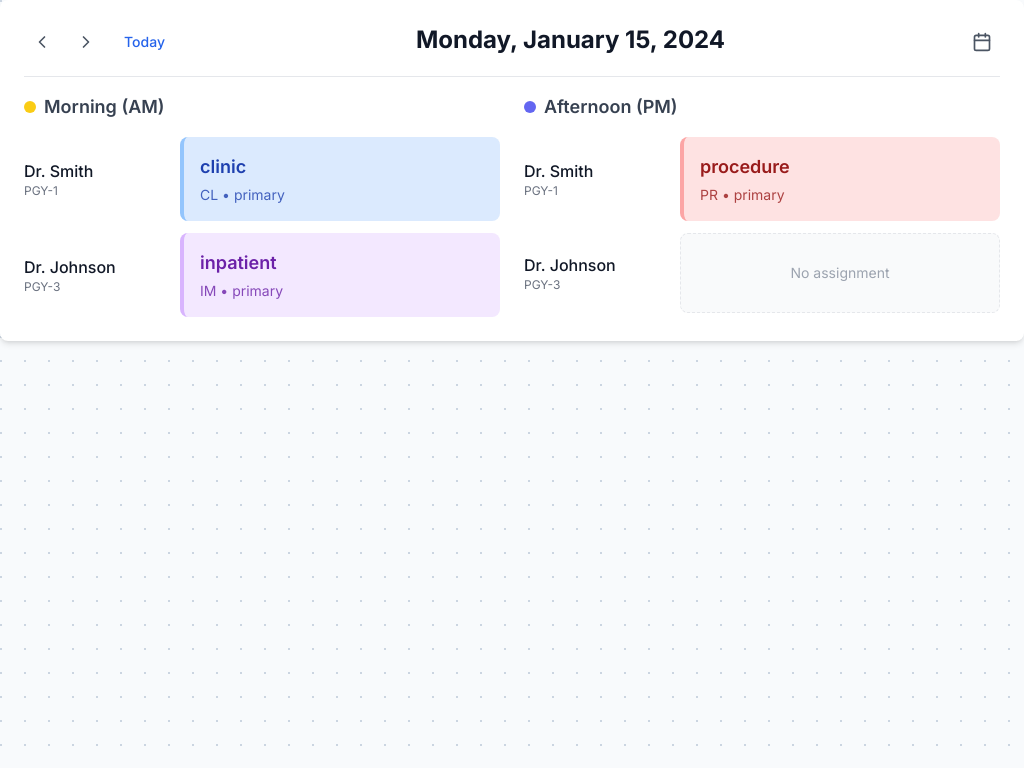
Test: DayView › Date Picker › should toggle date picker when calendar button clicked
Step 1. Click the button titled "Jump to date" → (982, 42), box [964,24,1000,60]
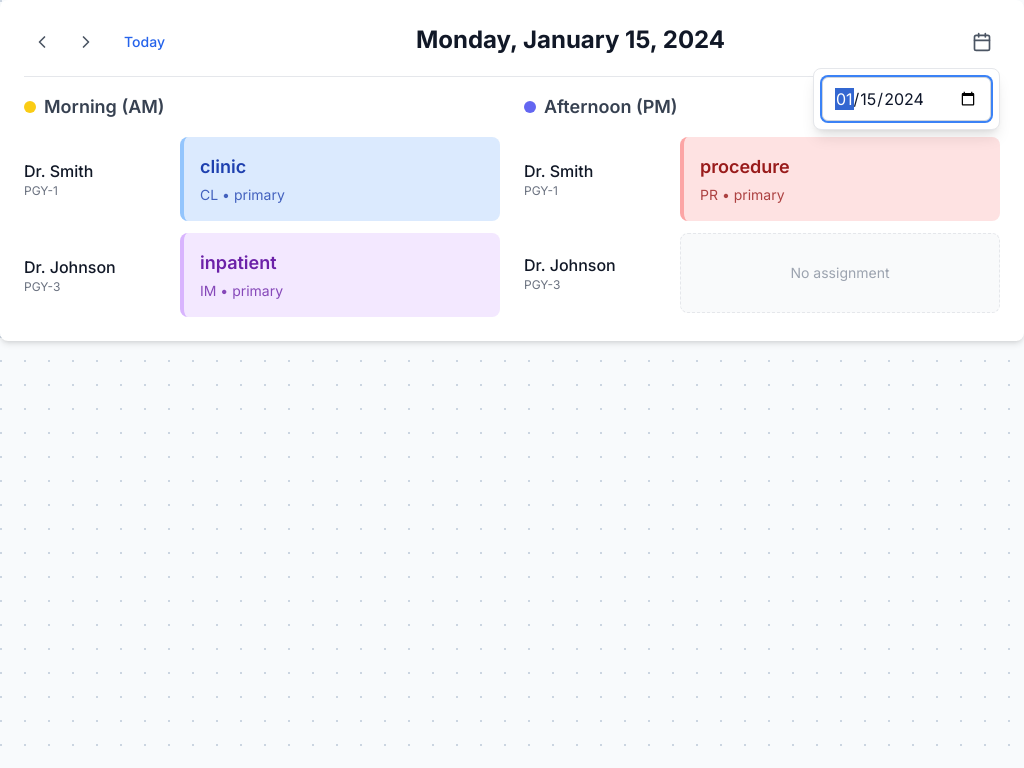
Expected: the date field showing "2024-01-15" is shown, [822,77,991,121]
